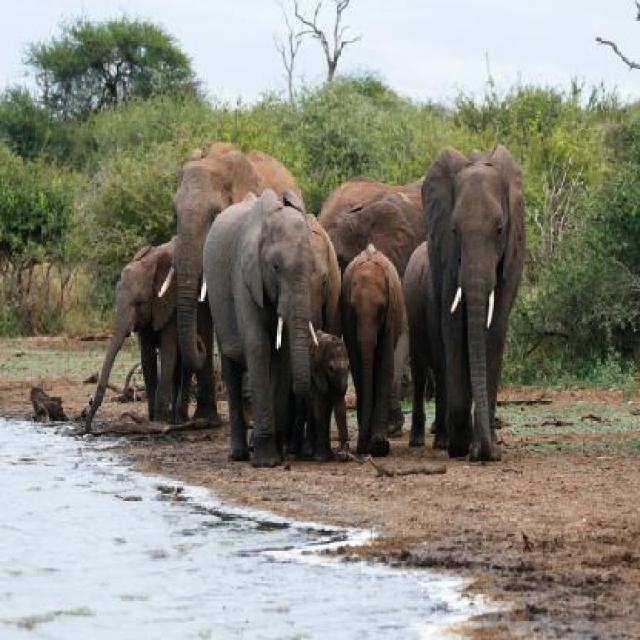Elephant: (417, 140, 534, 472), (200, 183, 322, 474), (80, 221, 188, 434), (339, 246, 406, 463)
